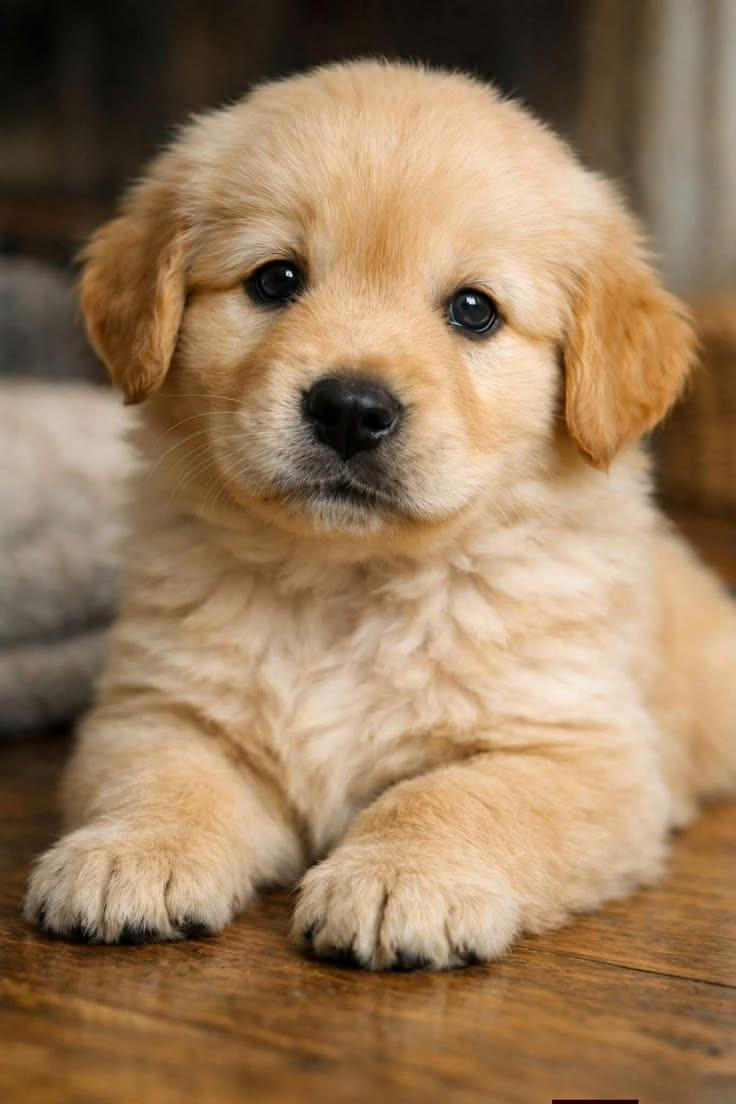puppy-dog: (20, 53, 736, 977)
